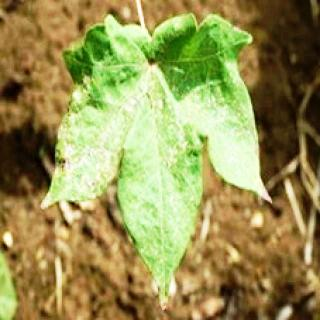grey mildew: (43, 28, 275, 274)
